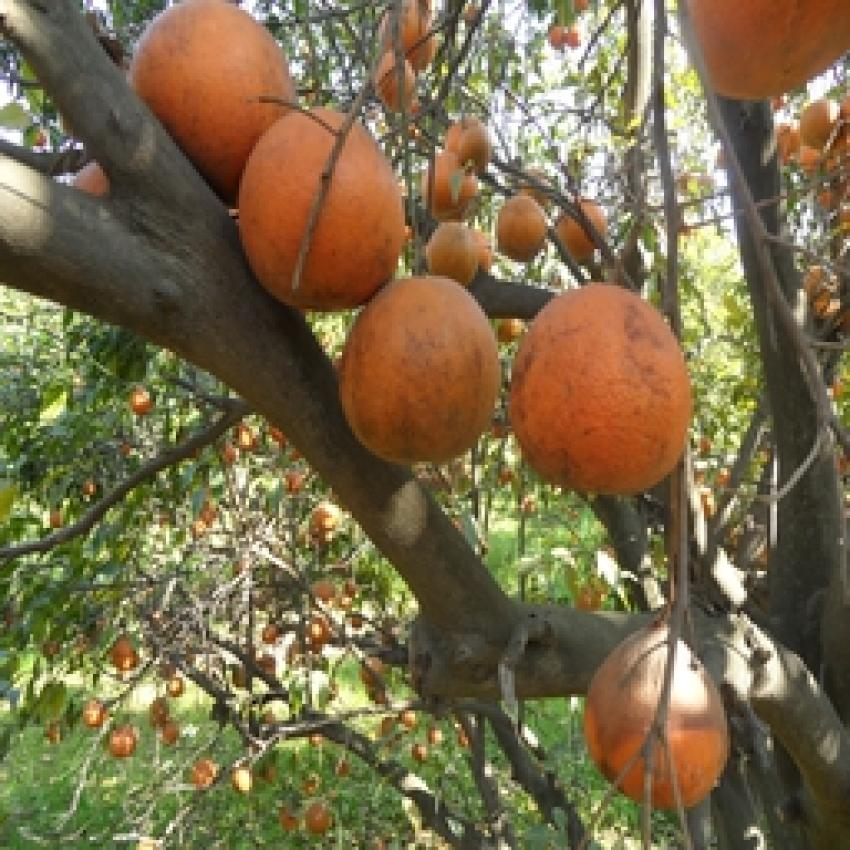Mal estado: (509, 268, 721, 506), (234, 100, 410, 332), (575, 613, 745, 836), (338, 266, 508, 485), (122, 0, 300, 197)
